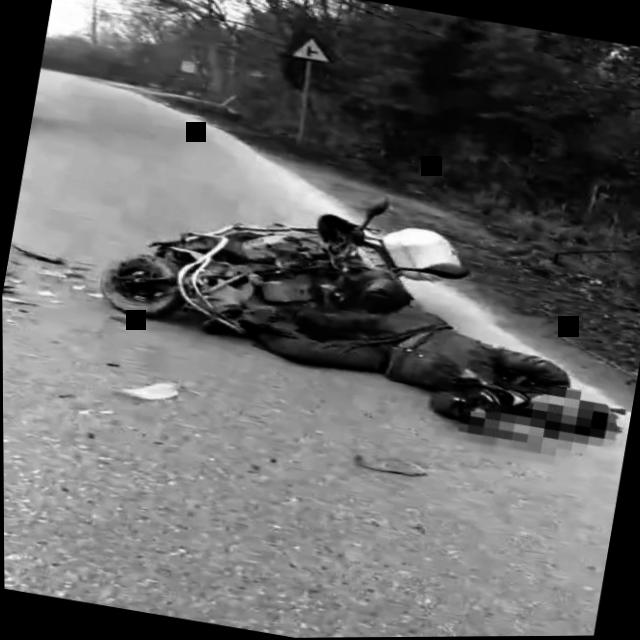Fall-Detected: (227, 266, 639, 461)
